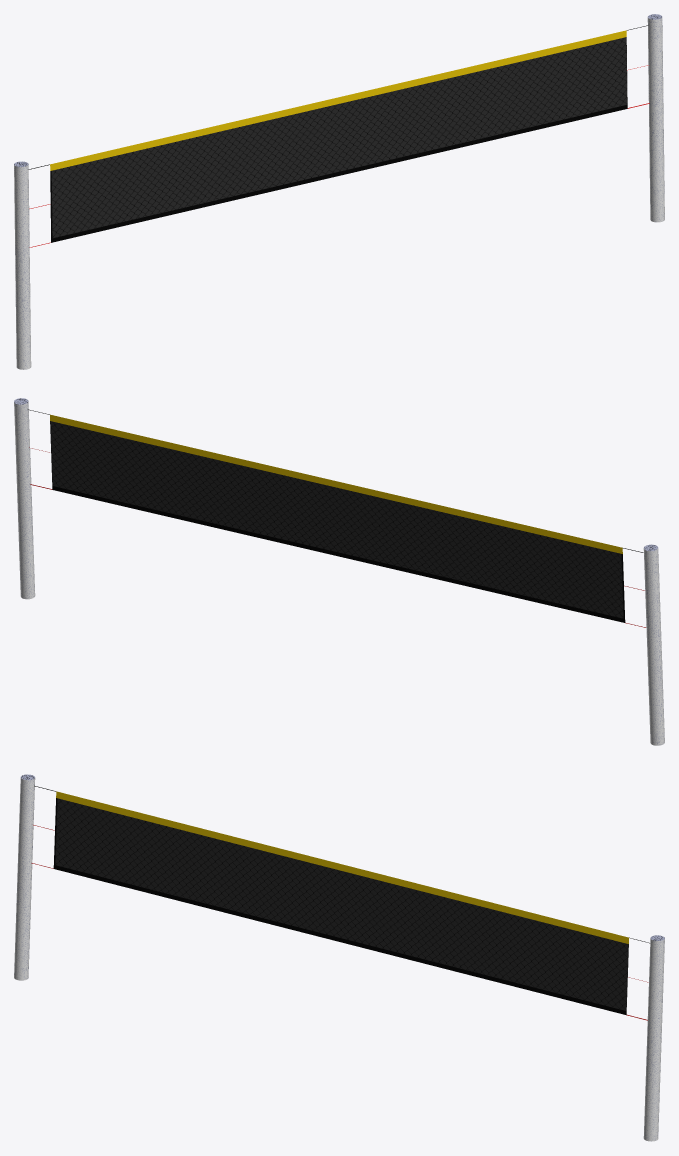
The model's file is Volleyball.fbx.
The picture shows the model from 3 angles, top to bottom: view 1: azimuth 30°, elevation 25°; view 2: azimuth 150°, elevation 25°; view 3: azimuth 330°, elevation 25°; orthographic projection.
Visible parts, largest first — view 1: Net1; view 2: Net1; view 3: Net1.
Part boxes in pixels (box(x1,y1,x2,y2)): Net1: box(14, 14, 664, 369); Net1: box(14, 398, 664, 745); Net1: box(14, 774, 664, 1141).
Size of the model in its own units: 10.99 by 3.34 by 0.3519.
